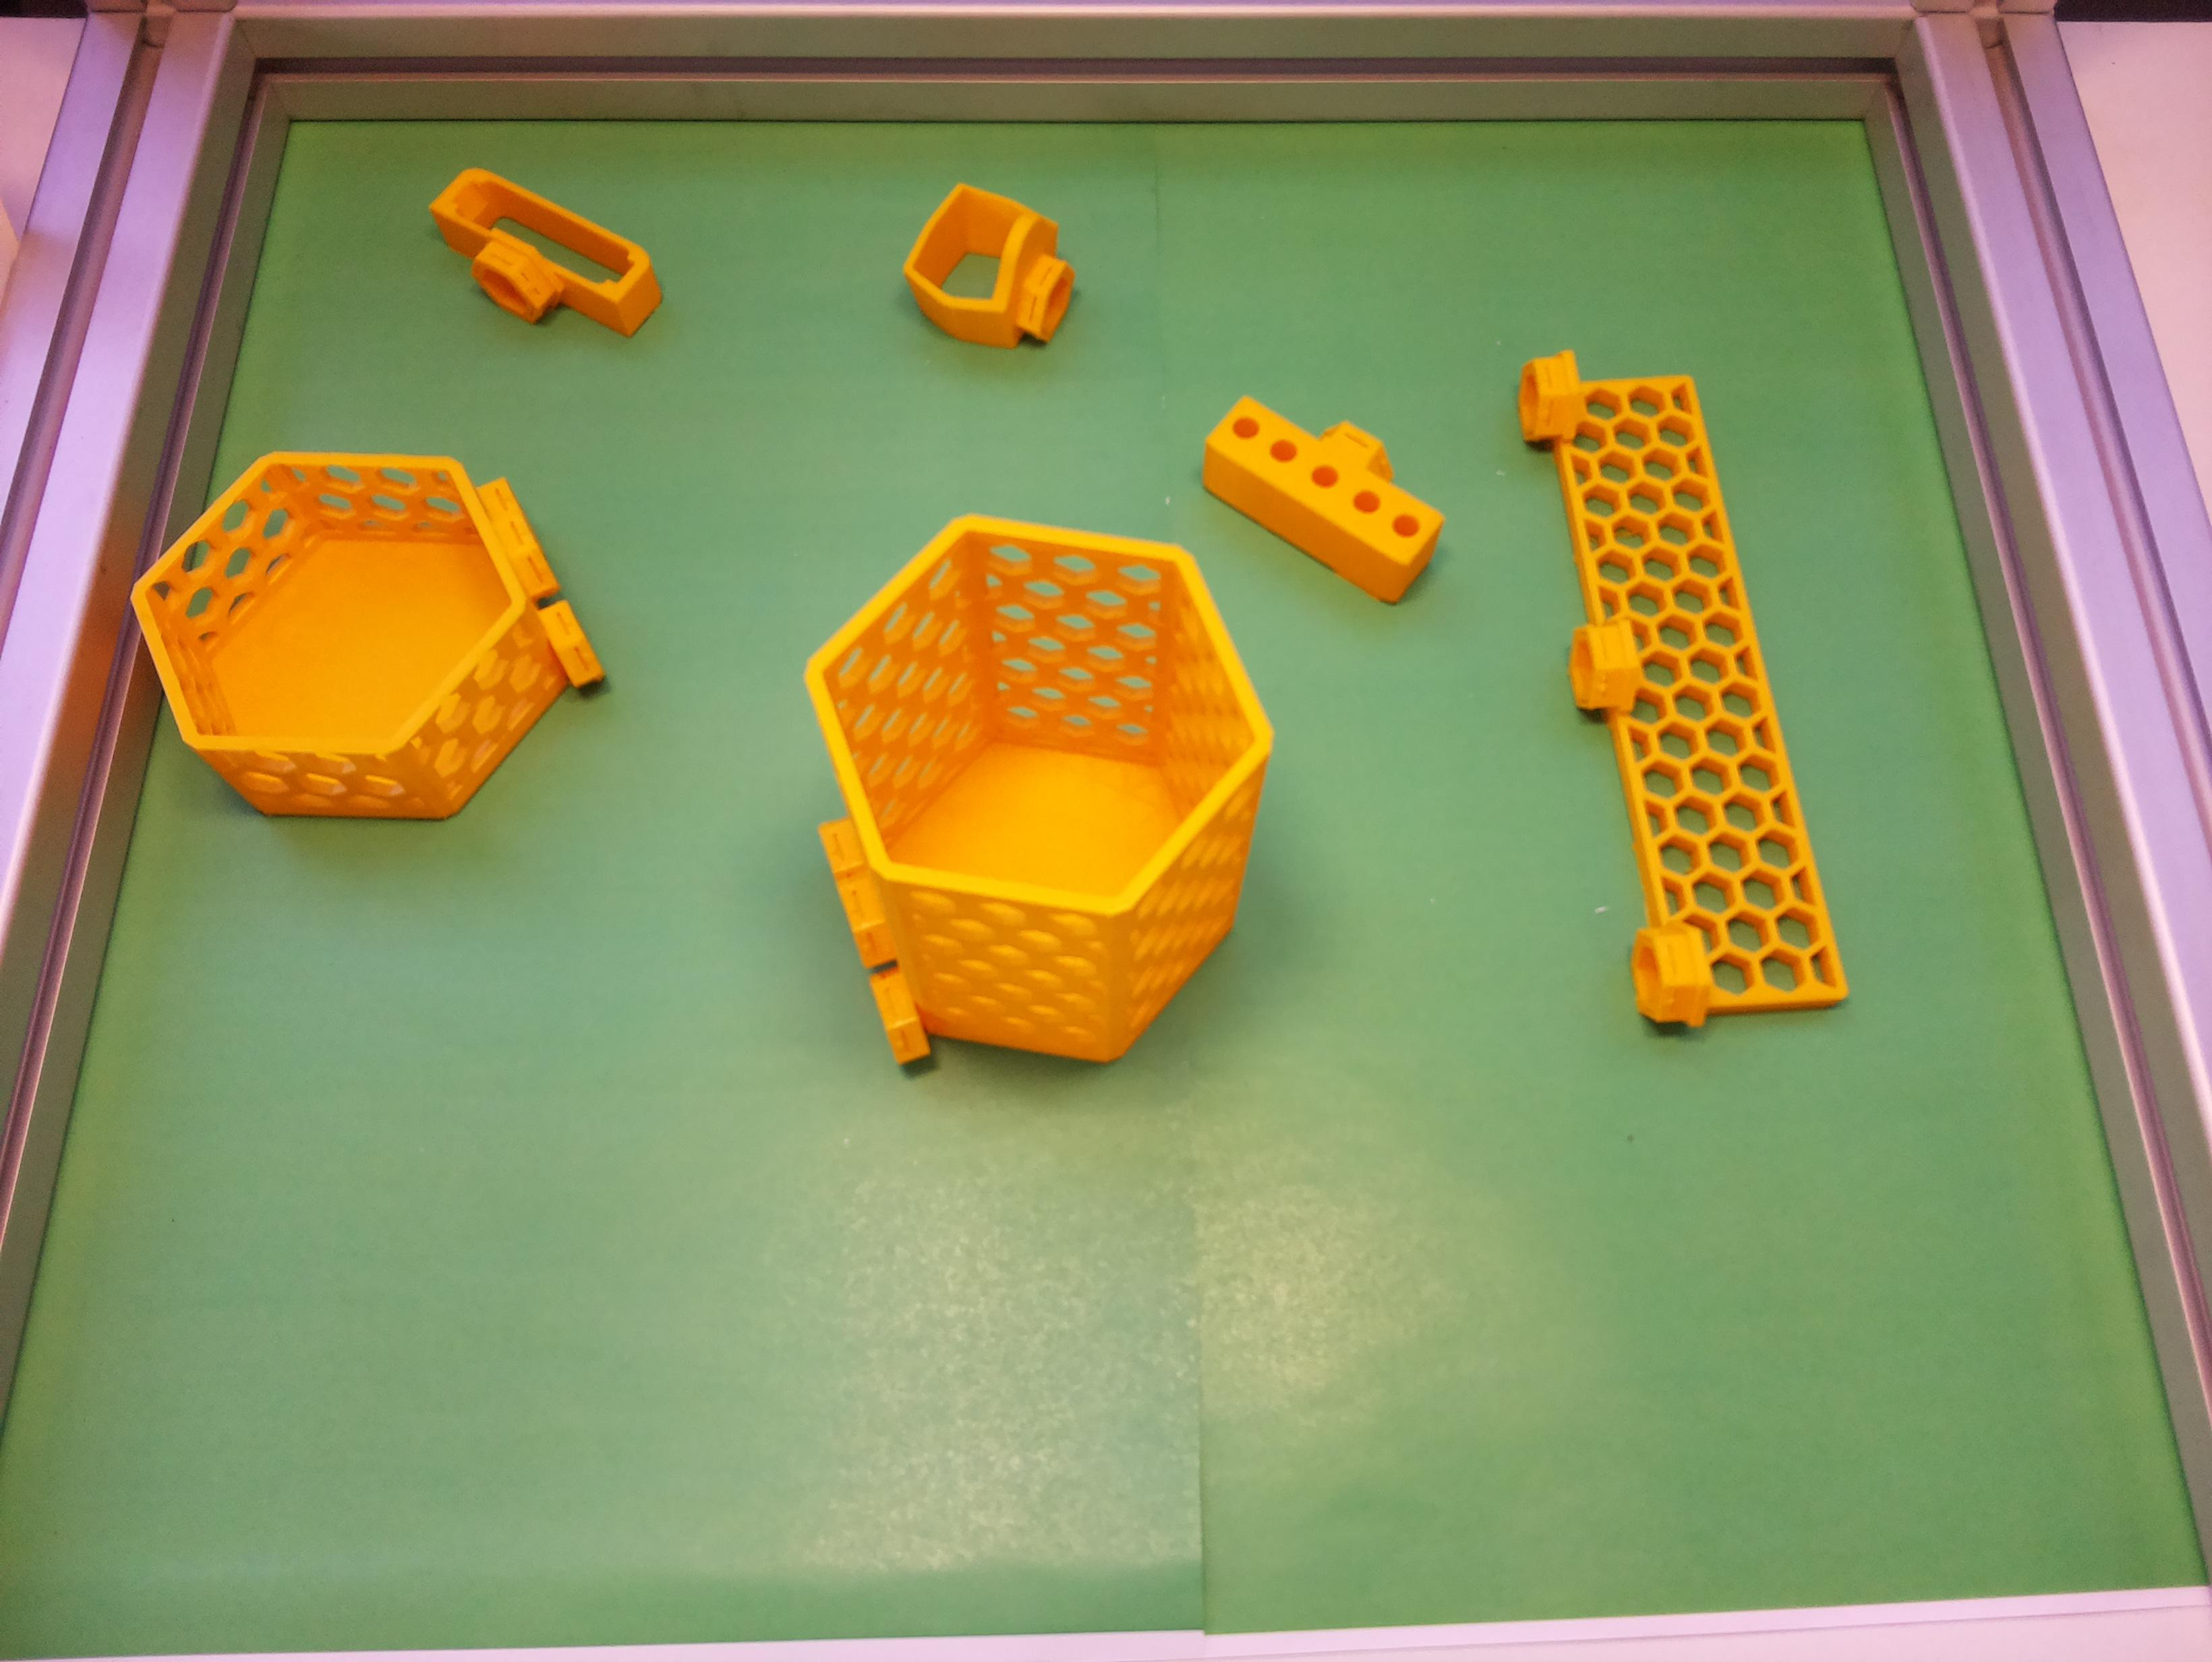bit_holder: (1182, 358, 1470, 618)
bottle_holder: (79, 347, 648, 915)
cup_holder: (807, 515, 1273, 1061)
cutter_holder: (403, 155, 679, 370)
scissor_holder: (885, 169, 1100, 377)
tool_holder: (1503, 321, 1851, 1044)
